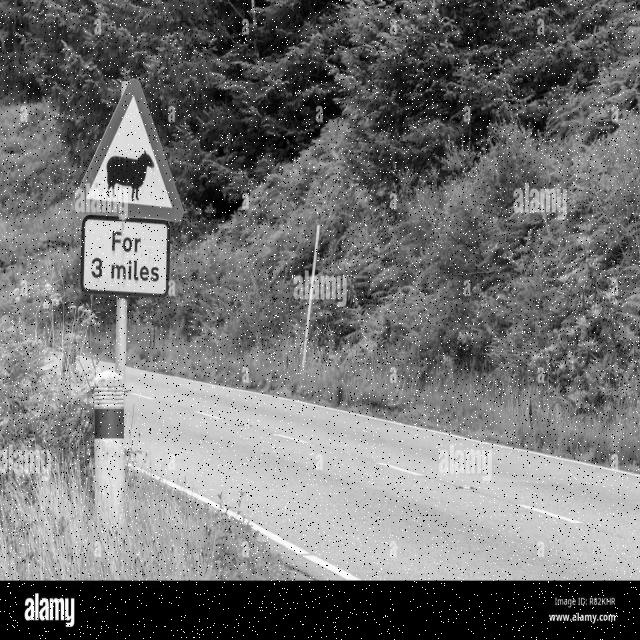cattle: (65, 76, 185, 230)
